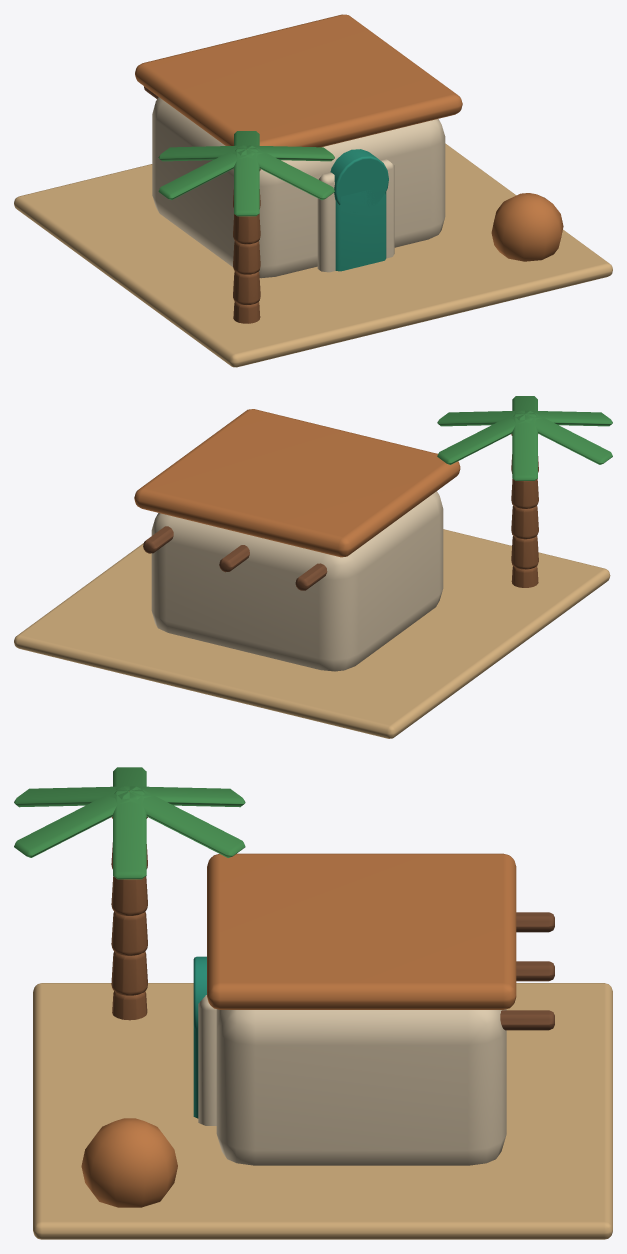
The picture shows the model from 3 angles, top to bottom: view 1: azimuth 30°, elevation 25°; view 2: azimuth 150°, elevation 25°; view 3: azimuth 270°, elevation 25°; orthographic projection. The views are drawn at different scales.
Parts seen in each view (by area): view 1: Cube; view 2: Cube; view 3: Cube.
Boxes of the visible parts, box(x1,y1,x2,y2) form: Cube: box(14, 14, 612, 367); Cube: box(14, 396, 612, 738); Cube: box(14, 767, 612, 1239).
Size of the model in its own units: 0.651 by 0.2732 by 0.6198.
